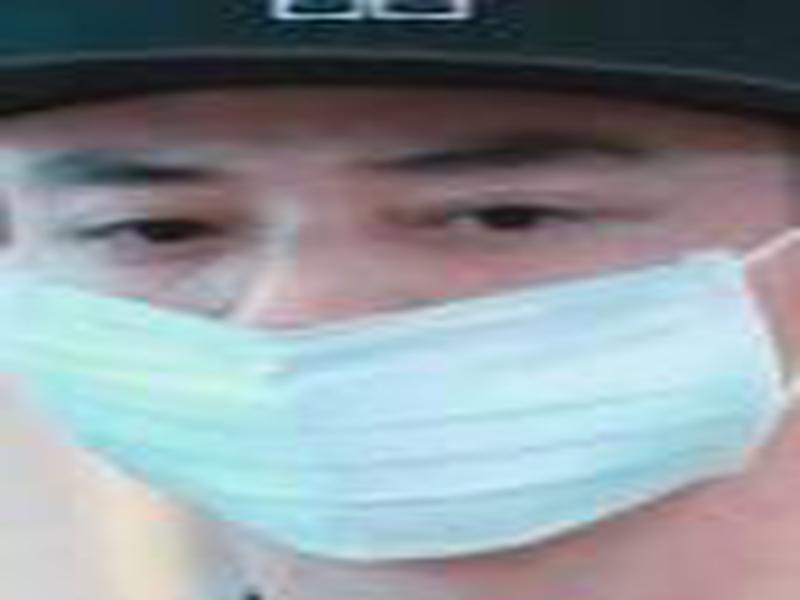with_mask: (1, 89, 799, 568)
